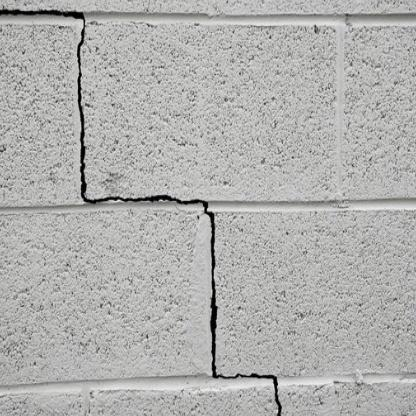Cracks: (0, 4, 292, 416)
